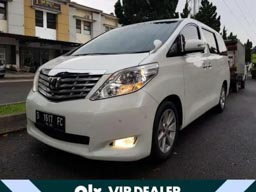plat: (35, 111, 65, 133)
